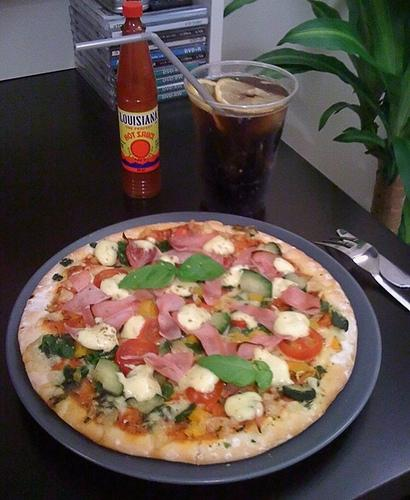lemon: (214, 78, 276, 106), (188, 78, 217, 102)
tomato: (115, 338, 159, 376), (278, 327, 322, 360), (186, 381, 224, 404), (137, 316, 163, 346), (94, 269, 130, 289), (316, 313, 334, 328), (231, 320, 247, 330)
